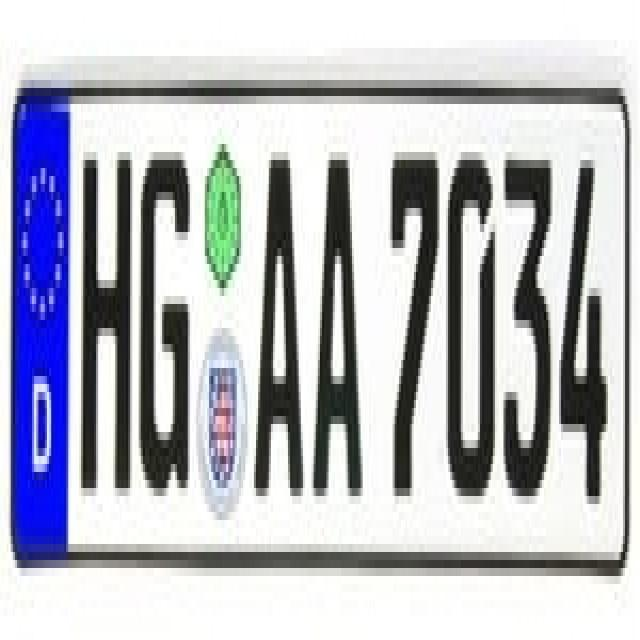Allemagne: (13, 97, 72, 554)
EU: (15, 103, 622, 548)
